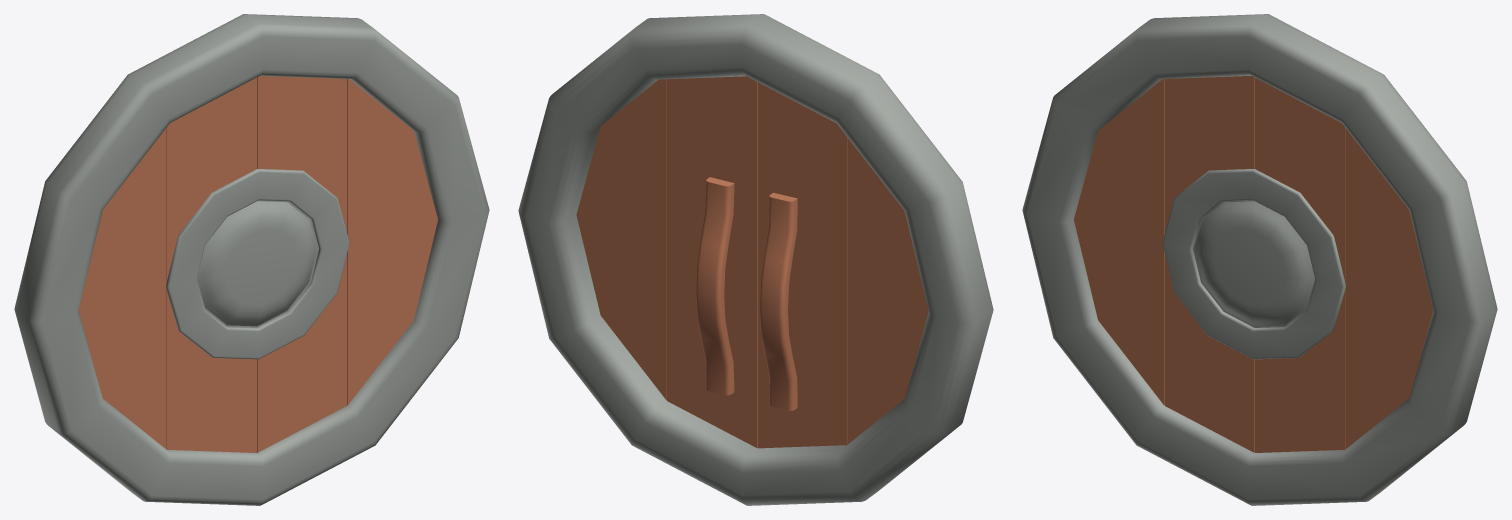
Rendered from Shield.fbx.
The picture shows the model from 3 angles, left to right: view 1: azimuth 30°, elevation 25°; view 2: azimuth 150°, elevation 25°; view 3: azimuth 330°, elevation 25°; orthographic projection.
Visible parts, largest first — view 1: Circle.008; view 2: Circle.008; view 3: Circle.008.
Boxes of the visible parts, box(x1,y1,x2,y2) form: Circle.008: box(14, 14, 489, 505); Circle.008: box(518, 14, 993, 505); Circle.008: box(1022, 14, 1497, 505).
Bounding box in the file's own units: 39.37 × 39.37 × 4.27.
1 material, 1 textured.
